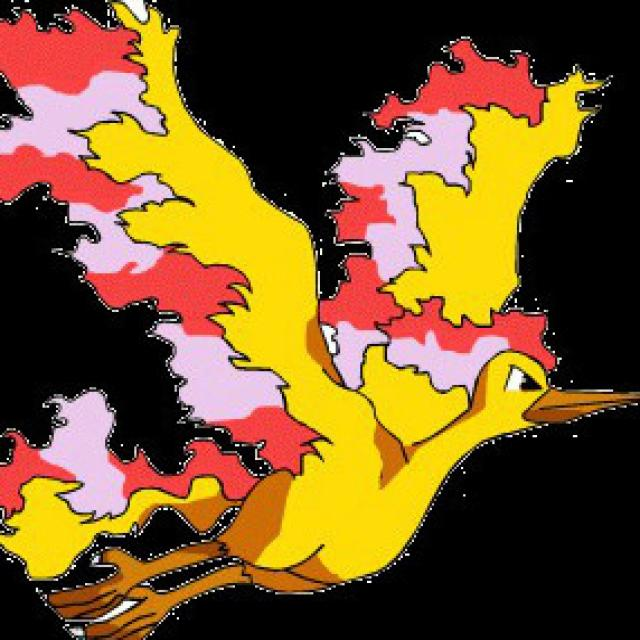Moltres: (110, 196, 616, 607)
